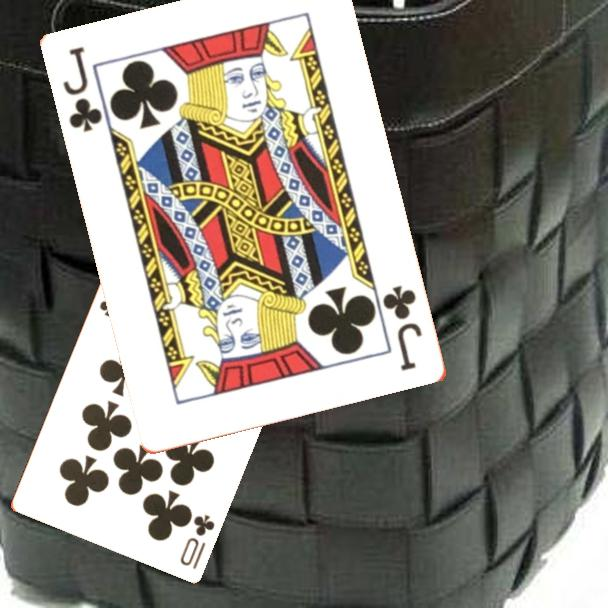c10: (176, 510, 217, 572)
c11: (380, 282, 426, 375), (60, 43, 106, 136)
